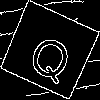Q: (24, 25, 79, 87)
